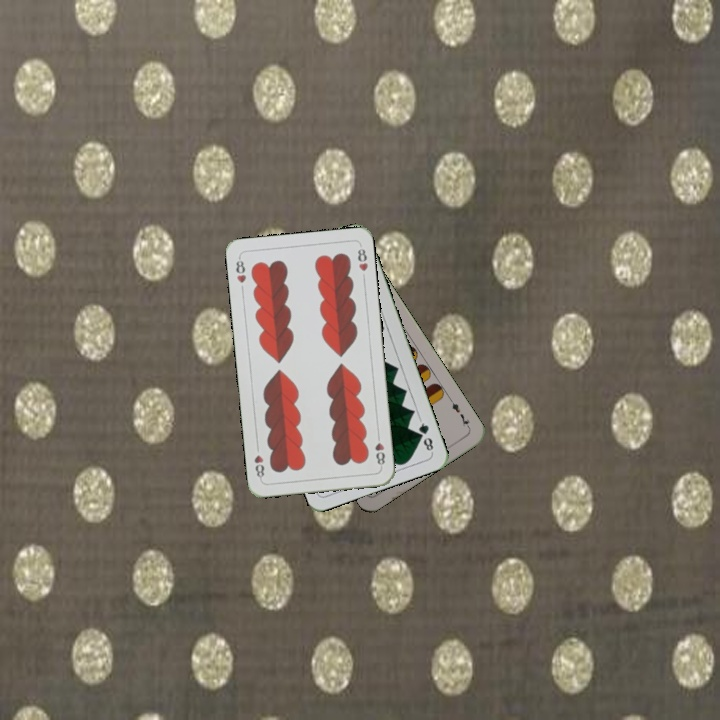E7: (446, 395, 473, 431)
G8: (414, 416, 436, 455)
H8: (371, 430, 388, 470), (232, 253, 249, 285)
